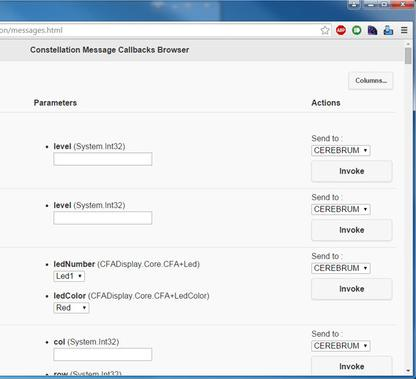button: (311, 158, 392, 183), (310, 218, 392, 242), (310, 277, 393, 300), (347, 70, 394, 91)
field: (47, 346, 153, 362), (47, 151, 153, 166), (51, 210, 153, 225), (311, 339, 370, 353), (311, 262, 372, 274), (311, 145, 371, 157), (311, 203, 370, 215), (54, 302, 91, 314), (53, 270, 86, 282)
field_with_label: (53, 293, 209, 315), (51, 260, 200, 283), (44, 338, 155, 364), (49, 200, 154, 226), (45, 143, 155, 166), (310, 134, 373, 158), (309, 252, 374, 275), (310, 330, 371, 354), (309, 194, 372, 217)
